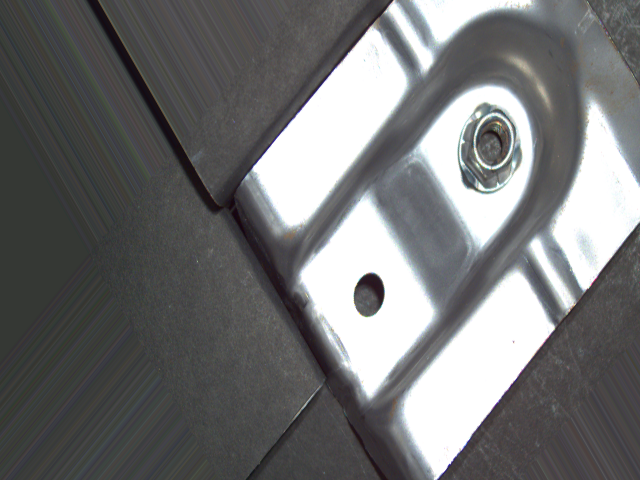good: (454, 100, 526, 198)
